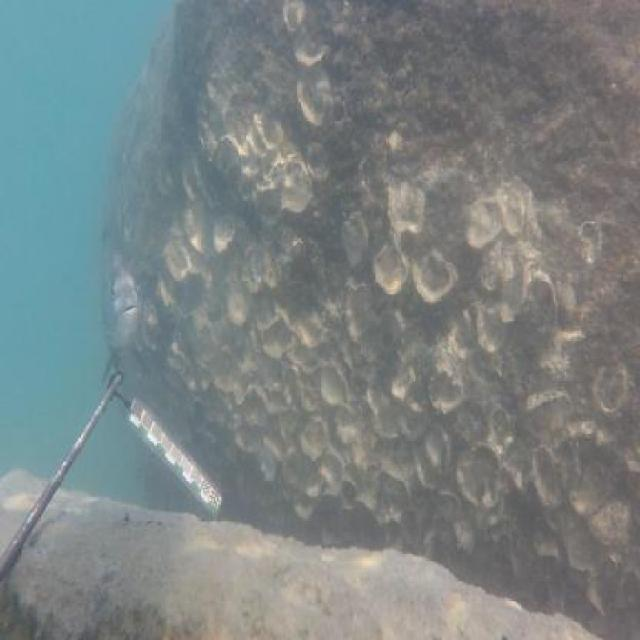acanthopagrus_palmaris: (95, 228, 153, 392)
